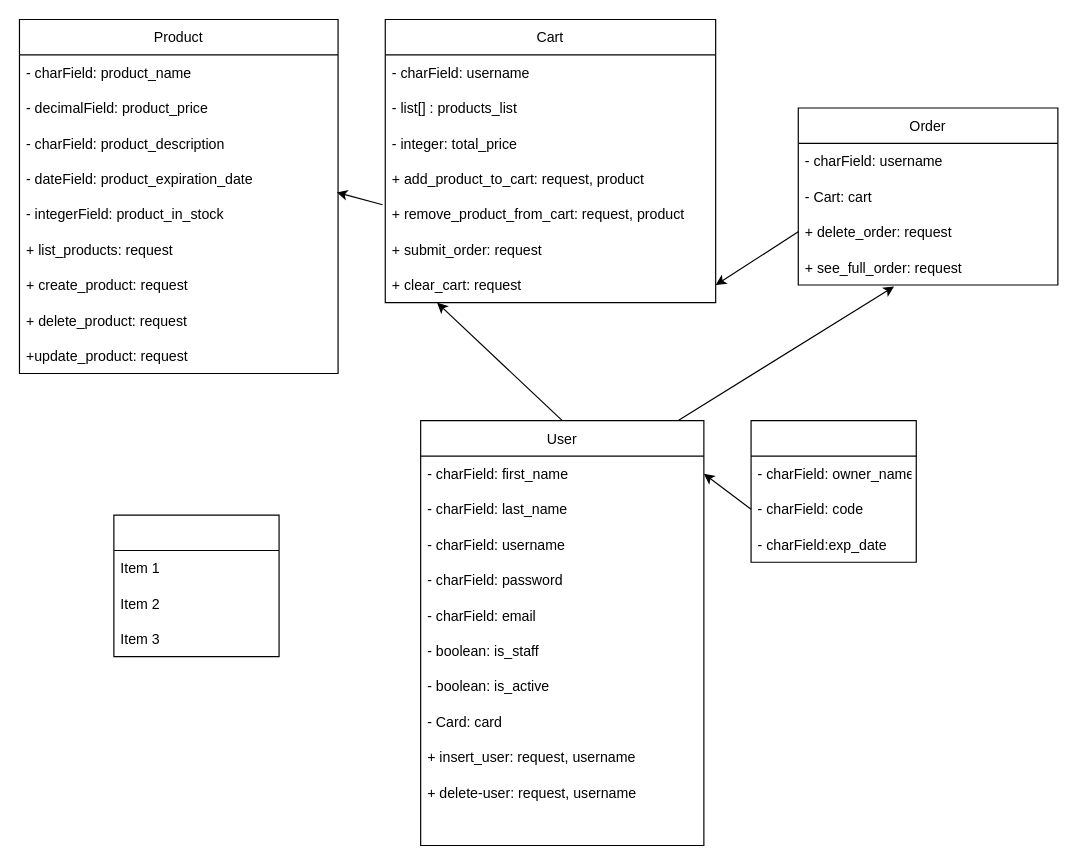
The diagram is 1077 pixels wide and 865 high, and some of its shapes have lost their labels. Here are the shapes that lost their labels. From the top down, the box of each, then its label:
(750, 419, 916, 562): Card
(113, 514, 279, 657): Admin
